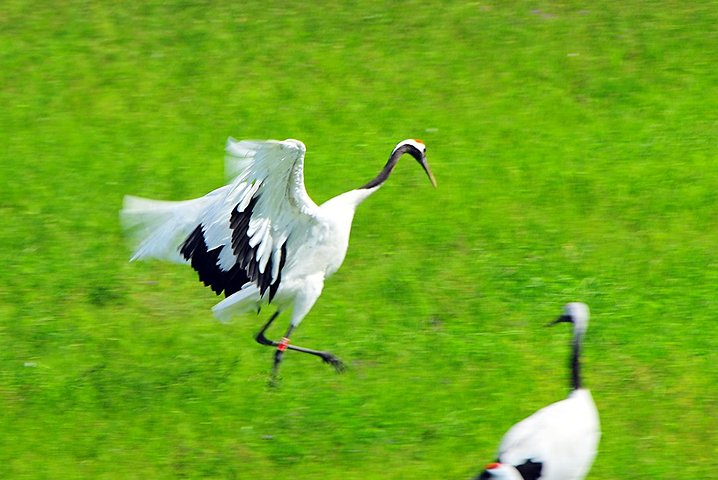bird: (109, 129, 438, 384), (466, 283, 604, 480)
